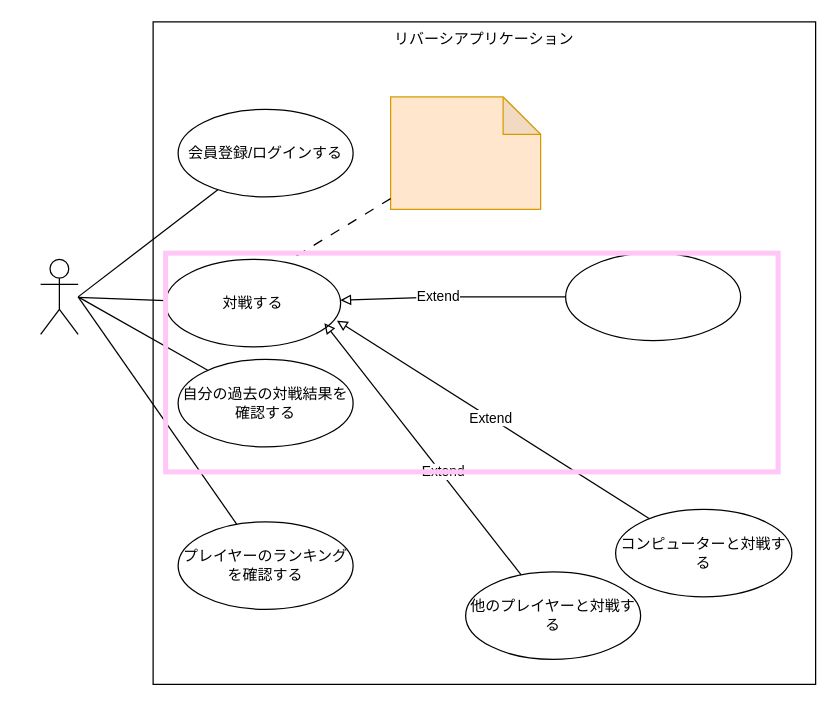
The diagram is 838 pixels wide and 706 high, and some of its shapes have lost their labels. The shapes that lost their labels are listed below. From the top down, each one's centre as x and y in pixels, then its label:
point (465, 152): - 対戦を開始する - 盤面を見る - 石を打つ
point (58, 296): プレイヤー
point (652, 296): 一人で白黒交互に打つ
